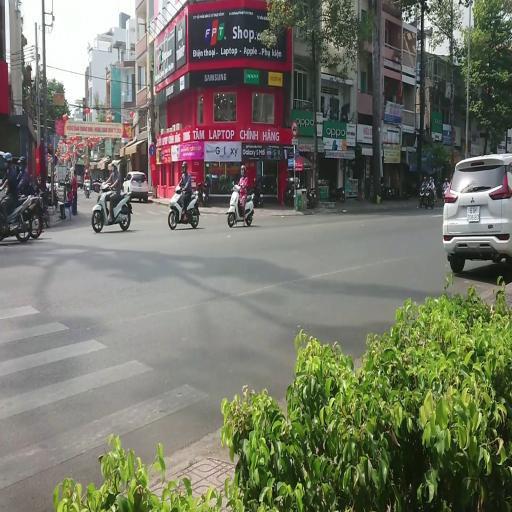bikes: (0, 152, 50, 242), (91, 183, 133, 232), (0, 191, 34, 242), (168, 186, 200, 230), (16, 190, 44, 239), (227, 182, 255, 227), (284, 177, 315, 208), (34, 178, 50, 228), (284, 176, 300, 206), (418, 184, 437, 209), (55, 179, 72, 202), (252, 177, 263, 207), (196, 181, 209, 206), (330, 185, 346, 202), (306, 186, 316, 208), (92, 176, 104, 192), (382, 184, 394, 199), (418, 186, 426, 208), (83, 177, 91, 198), (442, 182, 449, 203)
helmet: (4, 152, 12, 162), (182, 161, 188, 172), (240, 165, 246, 176), (18, 156, 26, 164), (111, 160, 117, 170), (36, 174, 41, 184), (174, 186, 180, 192), (206, 174, 210, 180), (254, 177, 257, 185), (37, 172, 41, 178), (85, 169, 88, 174), (445, 178, 448, 182), (424, 176, 426, 181), (430, 175, 432, 180), (430, 172, 432, 176)
